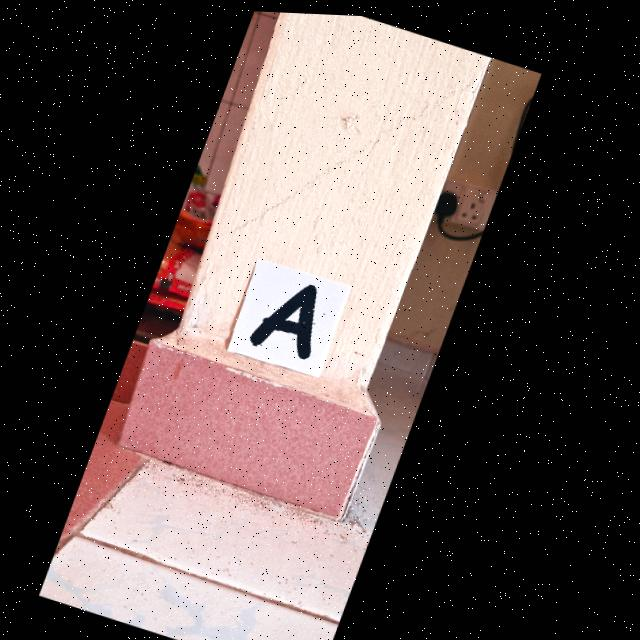A: (255, 282, 321, 356)
